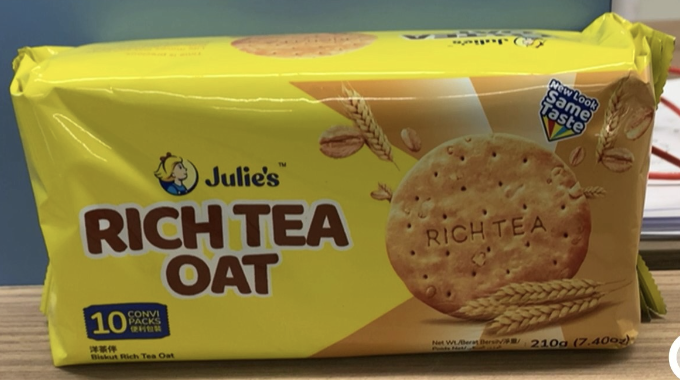cookies_150g: (63, 77, 607, 351)
